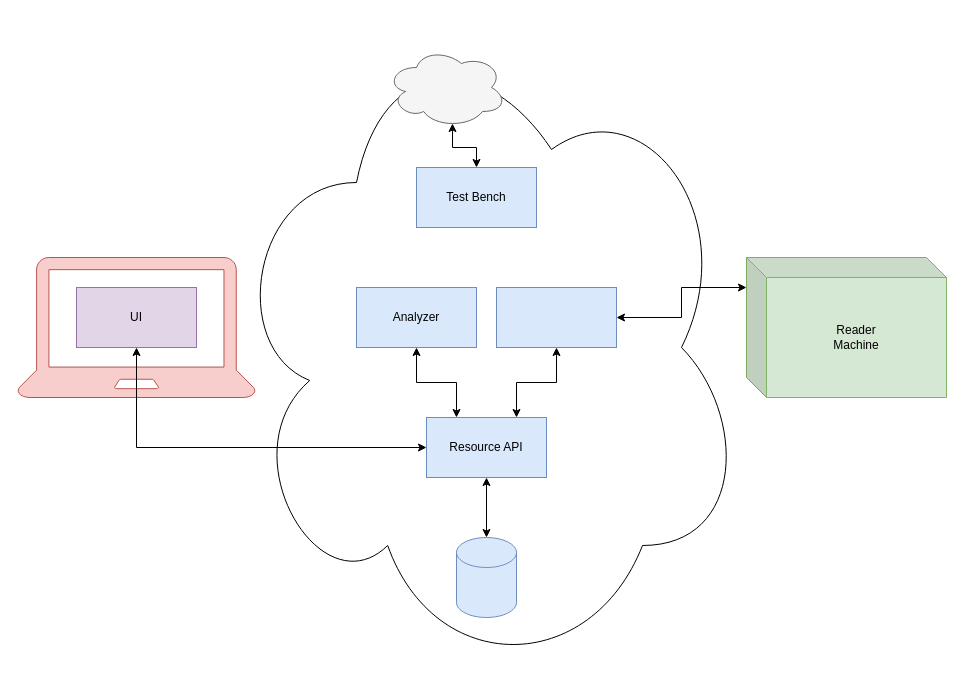
Image size: 964x695. Some labels were removed from this diagram. Here are the shapes that lost their labels. From the top down, the centre of each, then its label:
At (x=446, y=87): "Docker".
At (x=556, y=317): "Reader Control".
At (x=486, y=577): "DB".
